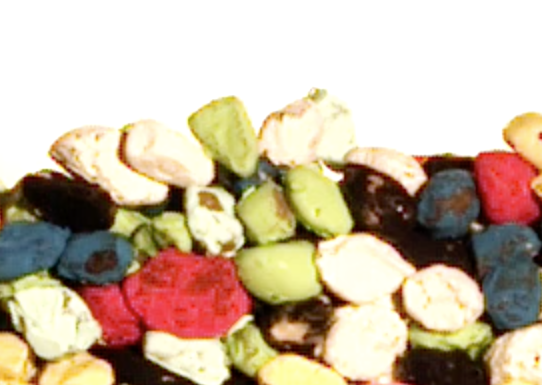black: (18, 169, 112, 234), (339, 165, 415, 237), (252, 303, 329, 359)
blue: (471, 226, 542, 326), (410, 177, 481, 235), (56, 232, 131, 282)
green: (188, 96, 263, 176), (233, 246, 323, 303), (286, 166, 354, 237), (238, 182, 297, 242), (407, 318, 492, 359), (112, 205, 157, 262), (227, 328, 270, 376), (149, 211, 195, 254)
red: (115, 250, 250, 338), (473, 147, 539, 228), (78, 281, 142, 348)
white: (44, 129, 166, 205), (6, 289, 102, 362), (315, 236, 415, 306), (322, 304, 408, 385), (266, 94, 351, 167), (396, 264, 485, 333), (124, 123, 215, 189), (134, 324, 229, 385), (185, 184, 244, 258), (349, 140, 425, 192)
